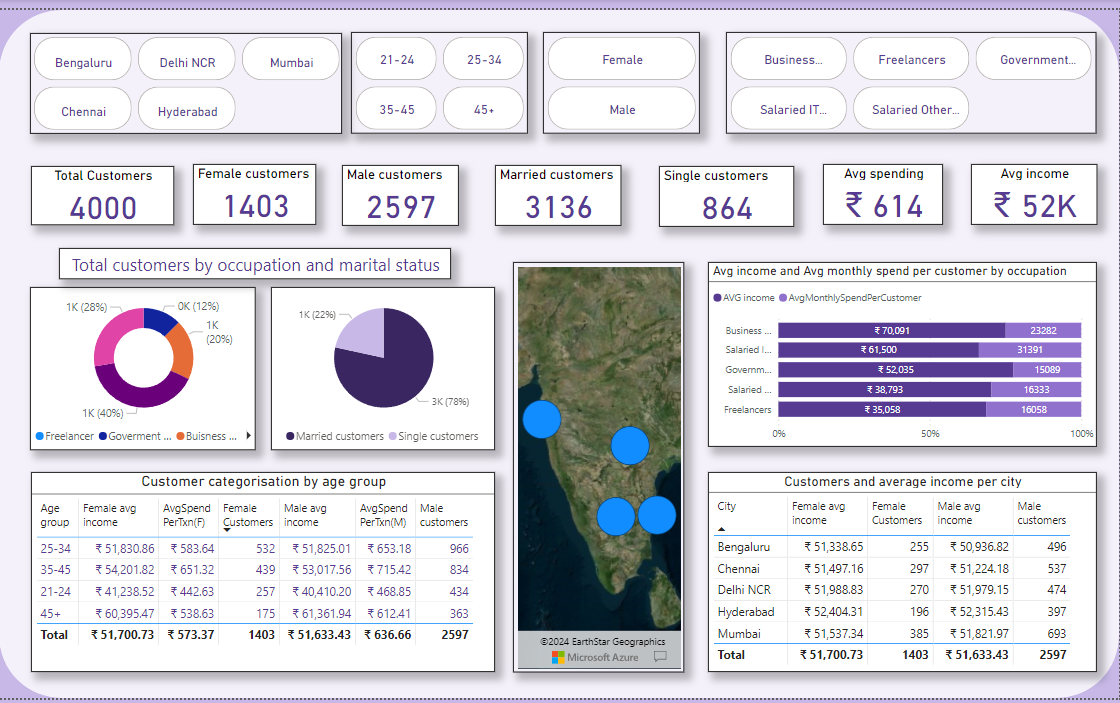

The dashboard page shown, as its layout file describes it:
{"tool":"powerbi","page":{"name":"DEMOGRAPHICS","canvas":[1400,860],"ordinal":0},"visuals":[{"type":"shape","box":[0,0,1400,860],"z":19500},{"type":"tableEx","title":"Customer categorisation by age group","fields":{"Values":["dim_customers.age_group","fact_spends.AverageFemaleIncome","fact_spends.AverageSpendPerTransactionFemale","dim_customers.Female Customers","fact_spends.AverageMaleIncome","fact_spends.AverageSpendPerTransactionMale","dim_customers.Male customers"]},"box":[40,577.8,580,250],"z":20000},{"type":"donutChart","fields":{"Y":["dim_customers.Freelancer","dim_customers.Goverment employees","dim_customers.Buisness owners","dim_customers.salaried  it employees","dim_customers.Salaried other employees"]},"box":[38.9,346.7,282.2,204.4],"z":25000},{"type":"card","title":"Total Customers","fields":{"Values":["dim_customers.Total Customers"]},"box":[40,194.4,178.9,74.4],"z":26500},{"type":"card","title":"Female customers","fields":{"Values":["dim_customers.Female Customers"]},"box":[242.2,192.2,154.4,75.6],"z":27000},{"type":"card","title":"Male customers","fields":{"Values":["dim_customers.Male customers"]},"box":[428.9,193.3,145.6,75.6],"z":27500},{"type":"card","title":"Married customers","fields":{"Values":["dim_customers.Married customers"]},"box":[620,193.3,157.8,75.6],"z":28000},{"type":"card","title":"Single customers","fields":{"Values":["dim_customers.Single customers"]},"box":[824.4,194.4,168.9,75.6],"z":28500},{"type":"card","title":"Avg spending","fields":{"Values":["dim_customers.Avg spends"]},"box":[1030,192.2,150,75.6],"z":29000},{"type":"card","title":"Avg income","fields":{"Values":["dim_customers.AVG income"]},"box":[1214.4,192.2,157.8,75.6],"z":29500},{"type":"advancedSlicerVisual","fields":{"Values":["dim_customers.age_group"]},"box":[440,27.8,221.1,126.7],"z":30000},{"type":"advancedSlicerVisual","fields":{"Values":["dim_customers.gender"]},"box":[680,27.8,195.6,126.7],"z":30500},{"type":"advancedSlicerVisual","fields":{"Values":["dim_customers.occupation"]},"box":[908.9,27.8,463.3,126.7],"z":31000},{"type":"textbox","box":[74.4,297.8,490,38.9],"z":31500},{"type":"map","fields":{"Category":["dim_customers.city"]},"box":[642.2,314.4,214.4,513.3],"z":32000},{"type":"tableEx","title":"Customers and average income per city","fields":{"Values":["dim_customers.city","fact_spends.AverageFemaleIncome","dim_customers.Female Customers","fact_spends.AverageMaleIncome","dim_customers.Male customers"]},"box":[886.7,577.8,485.6,250],"z":32500},{"type":"hundredPercentStackedBarChart","title":"Avg income and Avg monthly spend per customer by occupation","fields":{"Category":["dim_customers.occupation"],"Y":["dim_customers.AVG income","fact_spends.AverageMonthlySpendPerCustomer"]},"box":[886.7,314.4,485.6,231.1],"z":33000},{"type":"pieChart","fields":{"Y":["dim_customers.Married customers","dim_customers.Single customers"]},"box":[340,346.7,280,204.4],"z":33500},{"type":"advancedSlicerVisual","fields":{"Values":["dim_customers.city"]},"box":[38.9,28.9,390,125.6],"z":34000}]}

Visuals, with their boxes in screenshot pixels (x1, y1, x2, y2), scaled from the page's 1400x860 canvas onto the 1120x703 screenshot:
shape: [left=0, top=0, right=1119, bottom=702]
"Customer categorisation by age group" tableEx: [left=32, top=472, right=496, bottom=677]
donutChart - dim_customers.Freelancer x dim_customers.Goverment employees: [left=31, top=283, right=257, bottom=450]
"Total Customers" card: [left=32, top=159, right=175, bottom=220]
"Female customers" card: [left=194, top=157, right=317, bottom=219]
"Male customers" card: [left=343, top=158, right=460, bottom=220]
"Married customers" card: [left=496, top=158, right=622, bottom=220]
"Single customers" card: [left=660, top=159, right=795, bottom=221]
"Avg spending" card: [left=824, top=157, right=944, bottom=219]
"Avg income" card: [left=972, top=157, right=1098, bottom=219]
advancedSlicerVisual - dim_customers.age_group: [left=352, top=23, right=529, bottom=126]
advancedSlicerVisual - dim_customers.gender: [left=544, top=23, right=700, bottom=126]
advancedSlicerVisual - dim_customers.occupation: [left=727, top=23, right=1098, bottom=126]
textbox: [left=60, top=243, right=452, bottom=275]
map - dim_customers.city: [left=514, top=257, right=685, bottom=677]
"Customers and average income per city" tableEx: [left=709, top=472, right=1098, bottom=677]
"Avg income and Avg monthly spend per customer by occupation" hundredPercentStackedBarChart: [left=709, top=257, right=1098, bottom=446]
pieChart - dim_customers.Married customers x dim_customers.Single customers: [left=272, top=283, right=496, bottom=450]
advancedSlicerVisual - dim_customers.city: [left=31, top=24, right=343, bottom=126]
